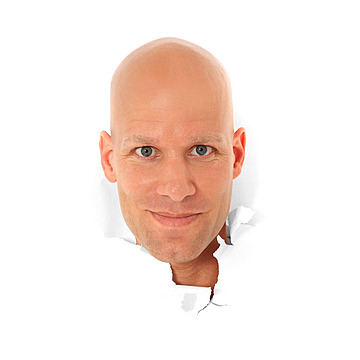face: (92, 29, 255, 269)
